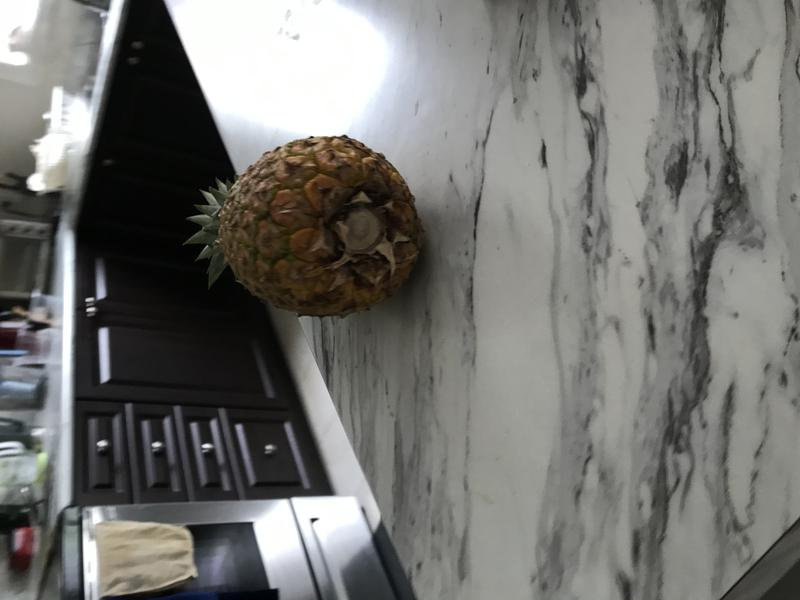pineapple: (178, 125, 431, 327)
